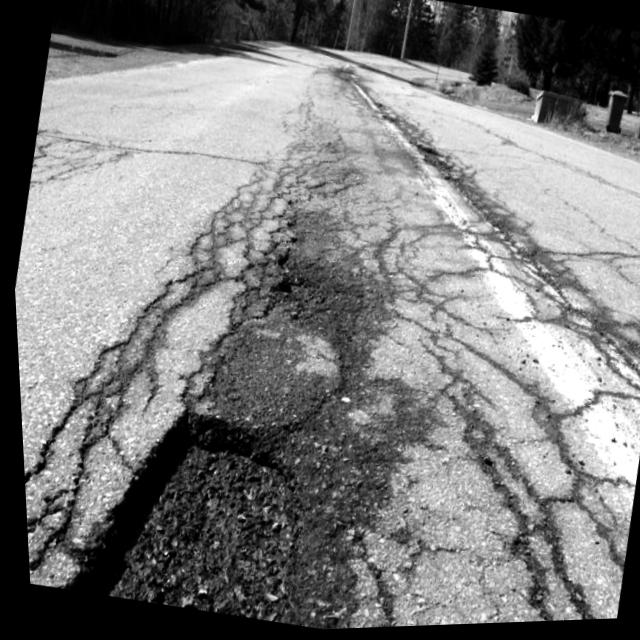pathole: (56, 284, 349, 630), (200, 217, 375, 355), (396, 120, 482, 221)
